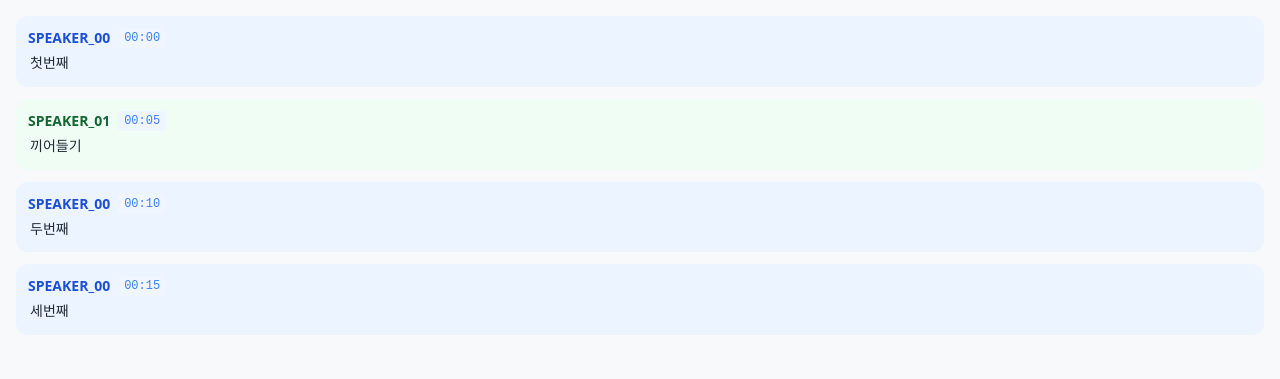
Test: Transcript 라벨 모델 — 최종 산출물 검증 › 전체 변경 후에도 라벨이 보존된다 — 같은 라벨을 두 번 연속 개명해도 전체 개수가 유지된다
Click the 1st text titled "클릭하여 이름 변경" at (69, 38), box [28,28,110,48]
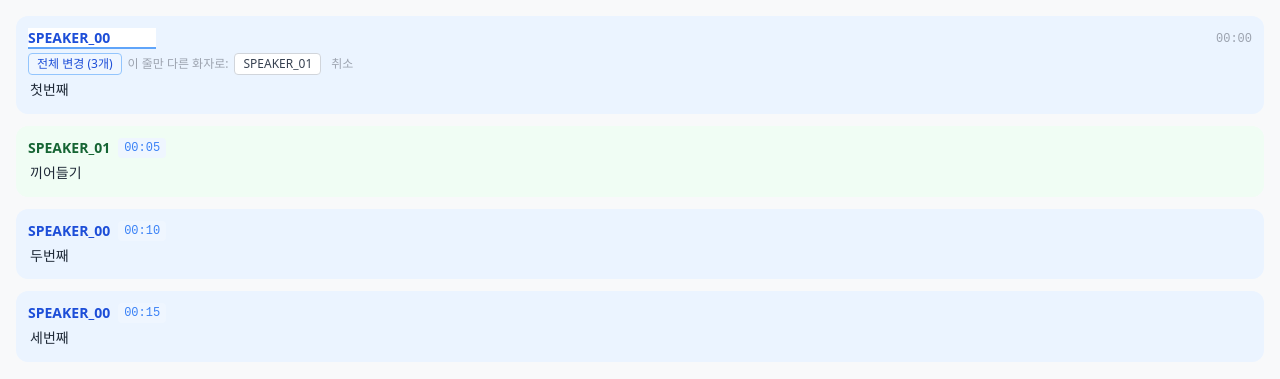
Replace the text in the field with placeholder "새 이름" with "김팀장" at (92, 38), box [28,28,156,49]
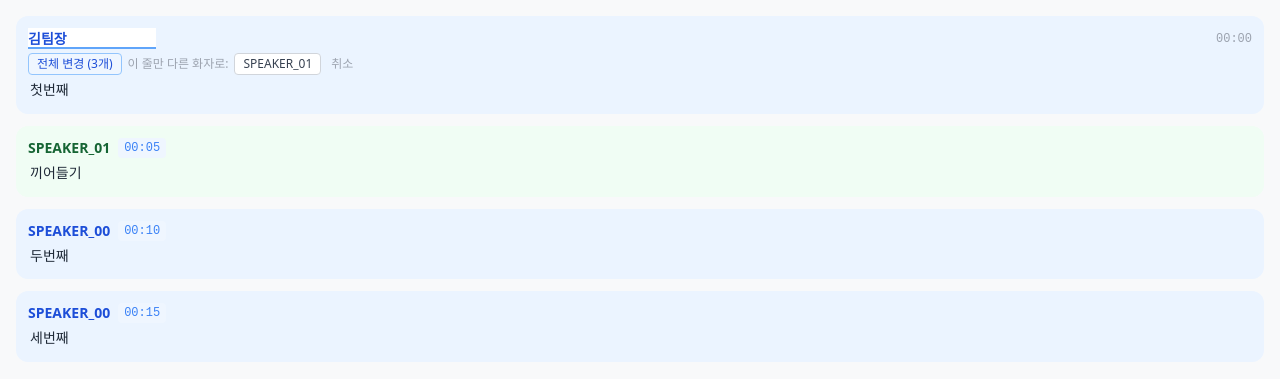
Press the mouse on the button "전체 변경 (3개)" at (75, 64), box [28,53,122,75]
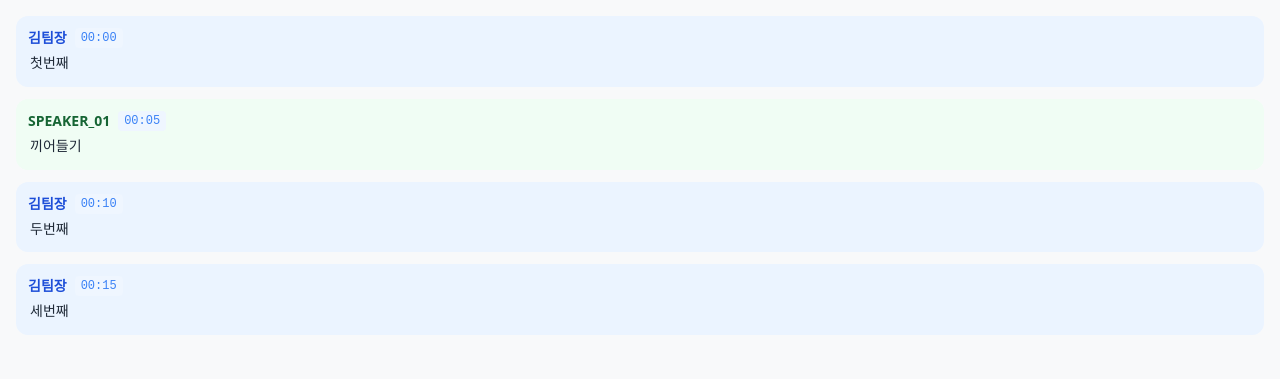
Expected: the 1st text "김팀장" is shown
Click the 1st text titled "클릭하여 이름 변경" at (47, 38), box [28,28,67,48]
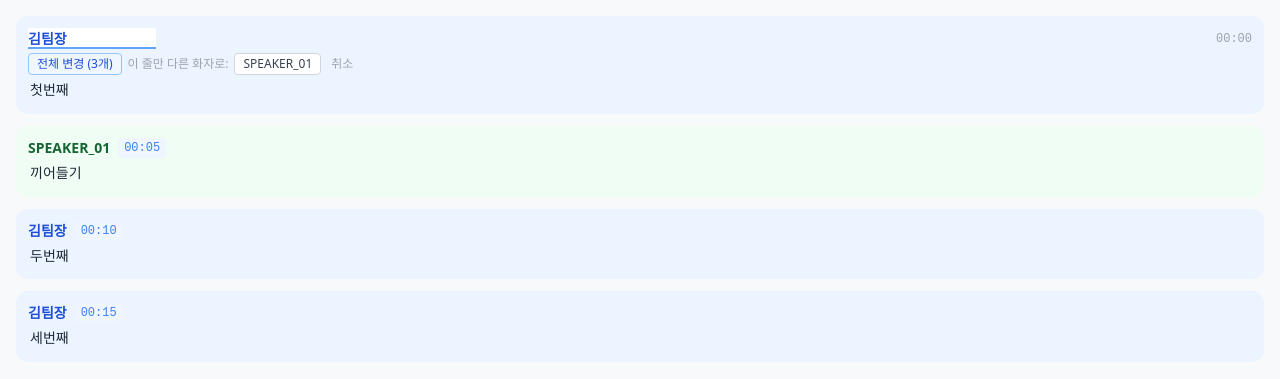
Replace the text in the field with placeholder "새 이름" with "박부장" at (92, 38), box [28,28,156,49]
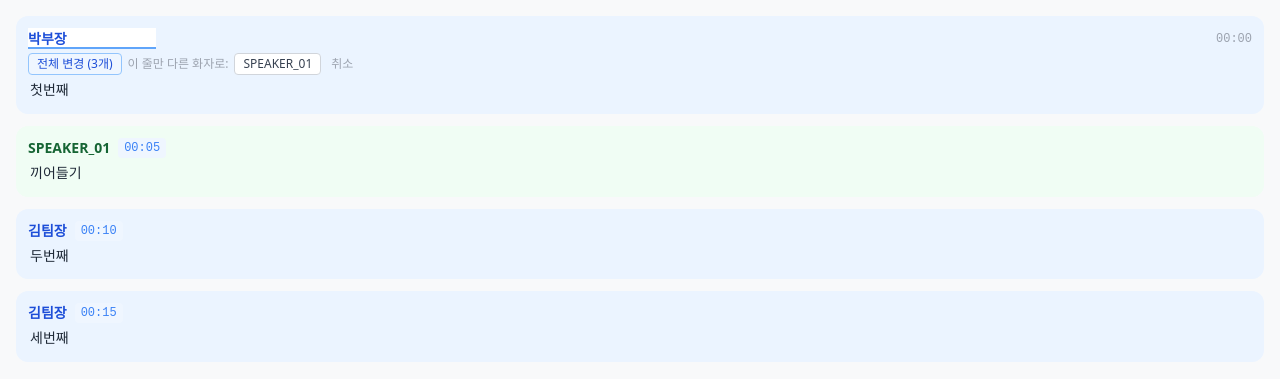
Press the mouse on the button "전체 변경 (3개)" at (75, 64), box [28,53,122,75]
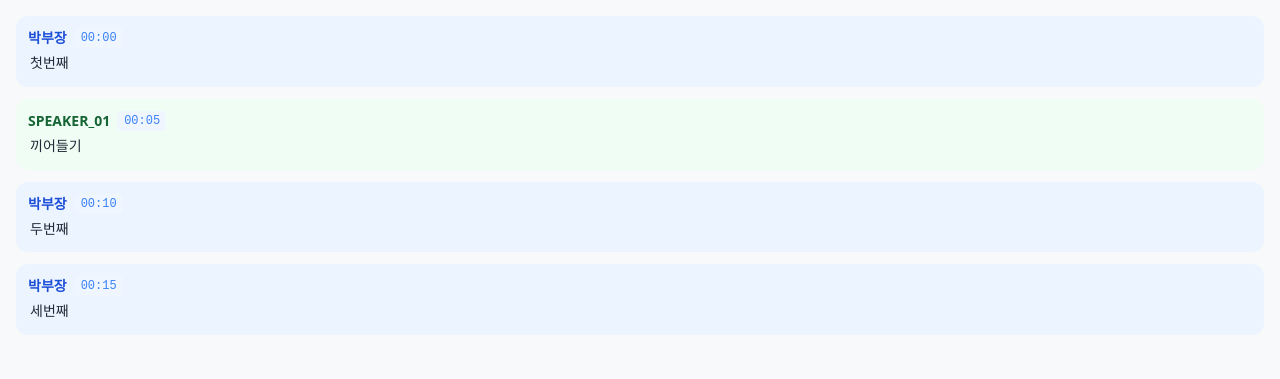
Expected: the 1st text "박부장" is shown, [28,28,67,48]
